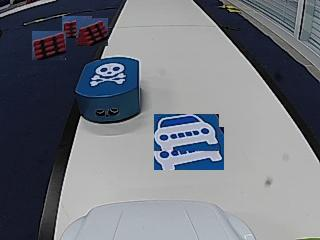danger: (89, 63, 124, 86)
